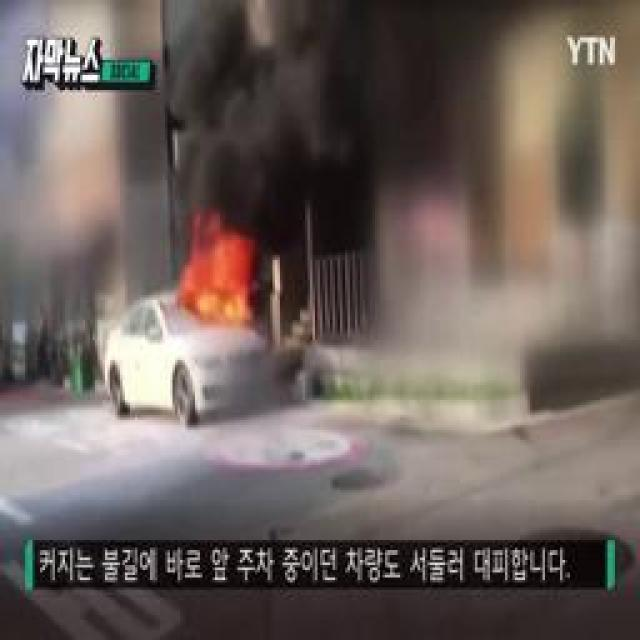Fire: (185, 224, 252, 326)
